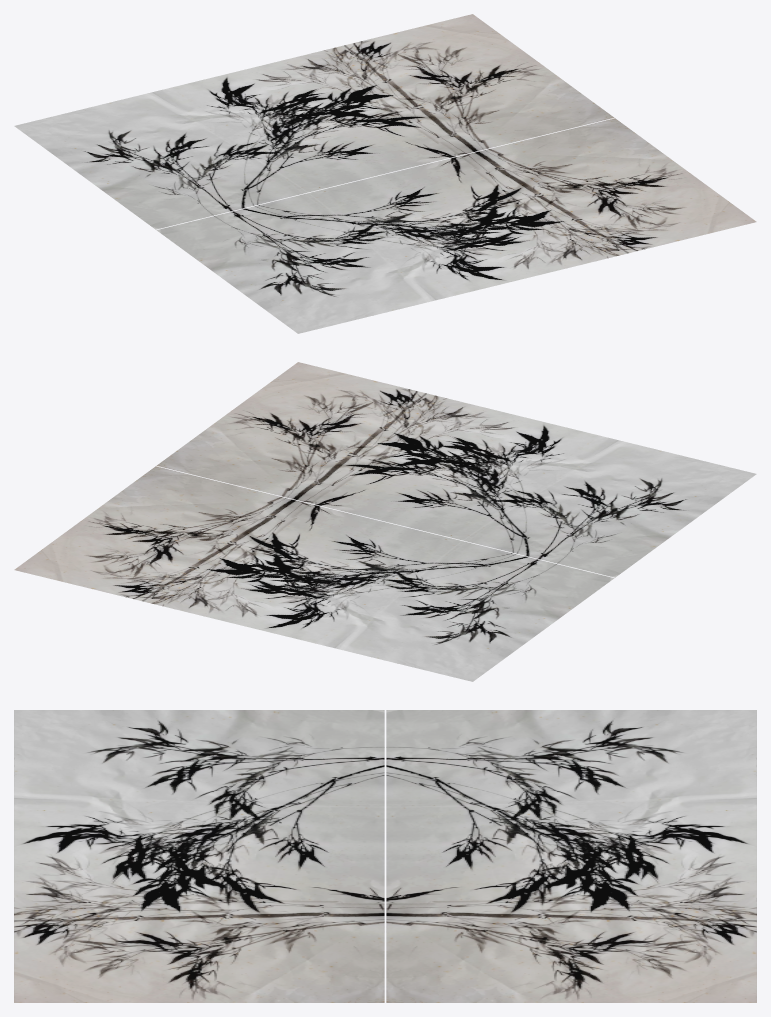
File: PPX_BABU12.fbx
3 renders of one model, top to bottom at view 1: azimuth 30°, elevation 25°; view 2: azimuth 150°, elevation 25°; view 3: azimuth 270°, elevation 25°, orthographic. The views are drawn at different scales.
Parts seen in each view (by area): view 1: 10571d2ecffb8c6d86239904e73bafb.png, 10571d2ecffb8c6d86239904e73bafb.png_2; view 2: 10571d2ecffb8c6d86239904e73bafb.png, 10571d2ecffb8c6d86239904e73bafb.png_2; view 3: 10571d2ecffb8c6d86239904e73bafb.png, 10571d2ecffb8c6d86239904e73bafb.png_2.
Boxes of the visible parts, x1=… form: 10571d2ecffb8c6d86239904e73bafb.png: x1=156, y1=118, x2=756, y2=333; 10571d2ecffb8c6d86239904e73bafb.png_2: x1=14, y1=14, x2=614, y2=229; 10571d2ecffb8c6d86239904e73bafb.png: x1=156, y1=362, x2=756, y2=577; 10571d2ecffb8c6d86239904e73bafb.png_2: x1=14, y1=466, x2=614, y2=681; 10571d2ecffb8c6d86239904e73bafb.png: x1=14, y1=710, x2=384, y2=1002; 10571d2ecffb8c6d86239904e73bafb.png_2: x1=386, y1=710, x2=756, y2=1002.
Size of the model in its own units: 193 by 207 by 0.
1 material, 1 textured.
